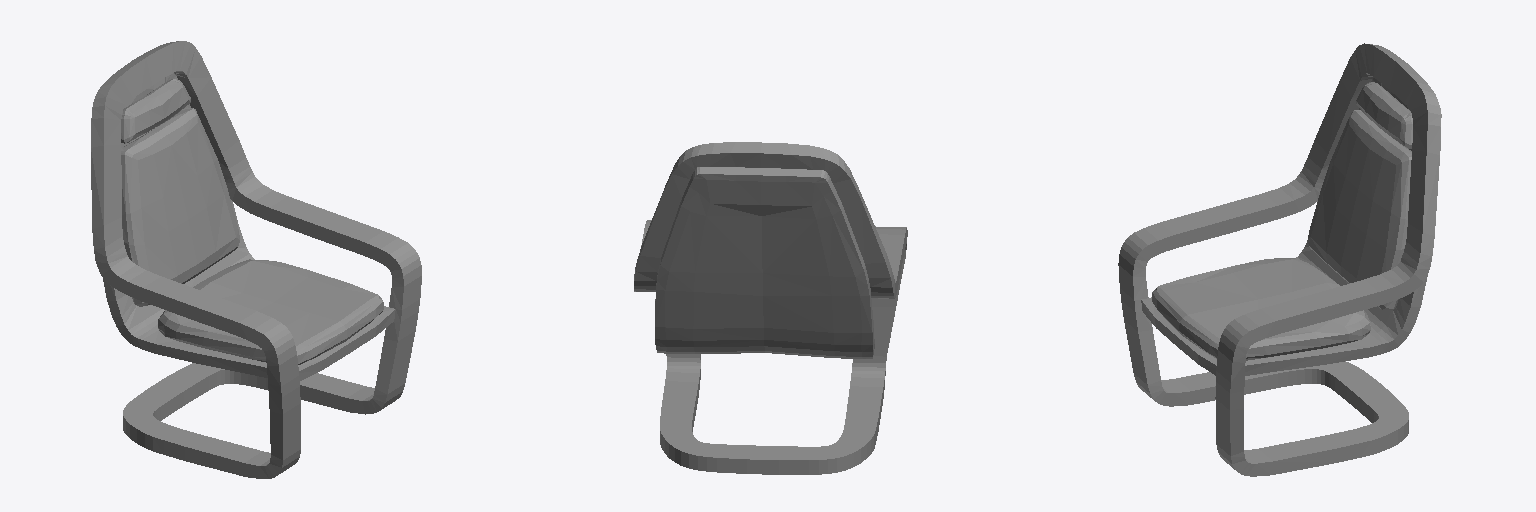
3 renders of one model, left to right at view 1: azimuth 30°, elevation 25°; view 2: azimuth 150°, elevation 25°; view 3: azimuth 270°, elevation 25°, orthographic.
Parts seen in each view (by area): view 1: Chair_15; view 2: Chair_15; view 3: Chair_15.
Boxes of the visible parts, <box> form: Chair_15: <box>91,41,421,478</box>; Chair_15: <box>634,142,907,474</box>; Chair_15: <box>1118,43,1441,476</box>.
Bounding box in the file's own units: 102 × 115 × 100.